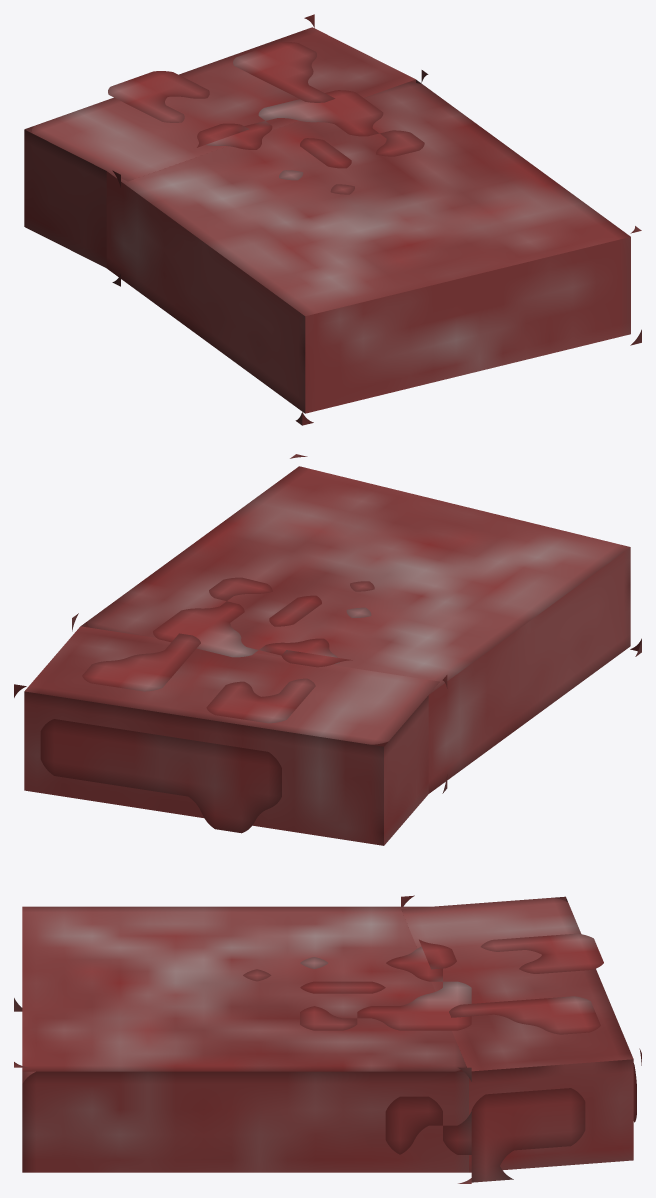
The model's file is piece_raw_meat.obj.
3 renders of one model, top to bottom at view 1: azimuth 30°, elevation 25°; view 2: azimuth 150°, elevation 25°; view 3: azimuth 270°, elevation 25°, orthographic. The views are drawn at different scales.
Visible parts, largest first — view 1: cube; view 2: cube; view 3: cube.
Part boxes in pixels (bbox=[...]): cube: bbox=[24, 14, 641, 425]; cube: bbox=[14, 454, 641, 845]; cube: bbox=[14, 895, 641, 1183].
Size of the model in its own units: 0.483 by 0.1453 by 0.7033.
